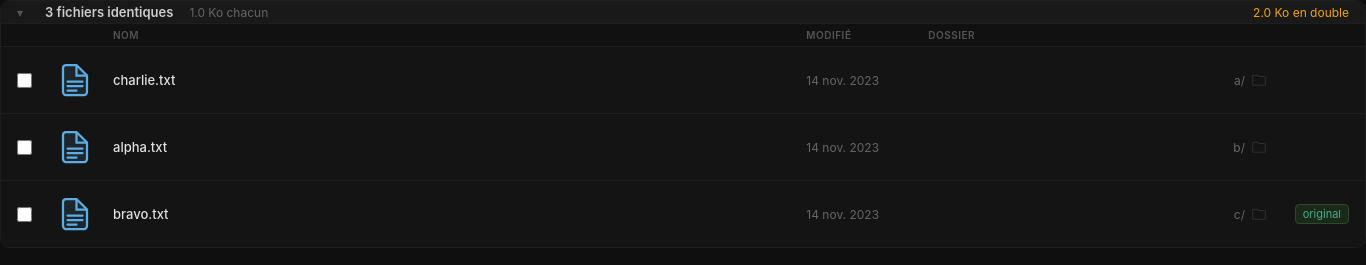
Test: K - tri des colonnes GroupCard › indicateur absent apres troisieme clic (tri annule)
Click the text with test id "sort-name": (126, 35) [113, 29, 139, 41]
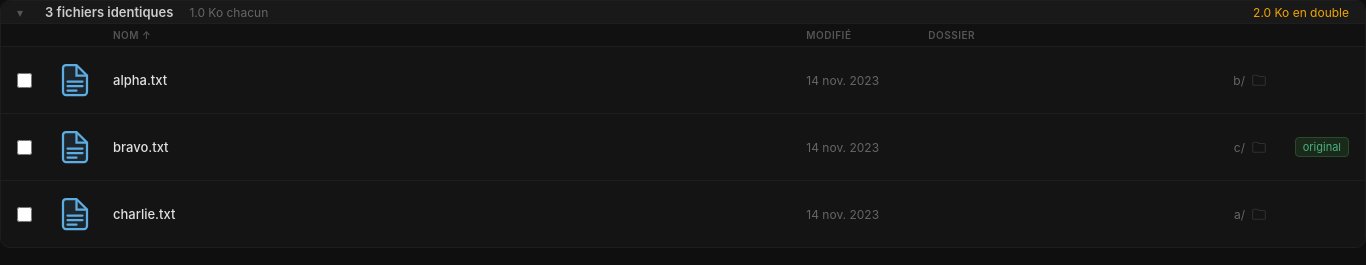
Click the element with test id "sort-name": (132, 35) [113, 29, 151, 41]
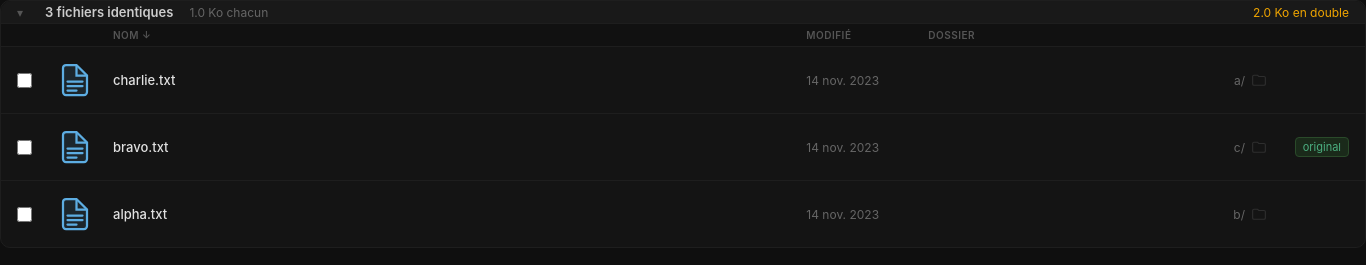
Click the element with test id "sort-name": (132, 35) [113, 29, 151, 41]
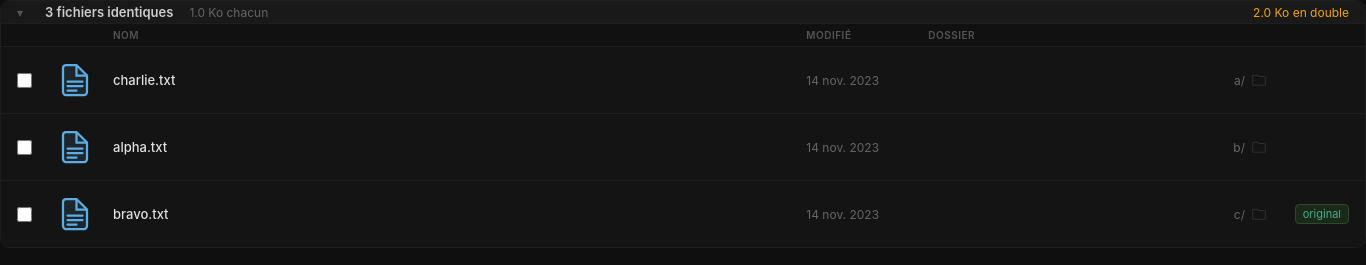
Expected: the text "↑" is not shown
Now the text "↓" is gone
